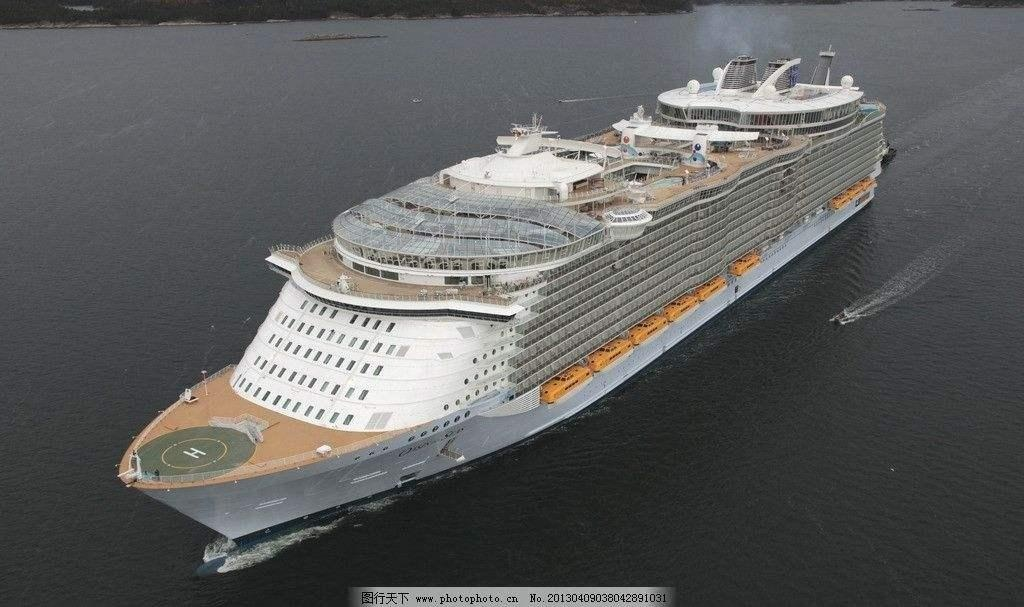youlun: (113, 33, 890, 540)
